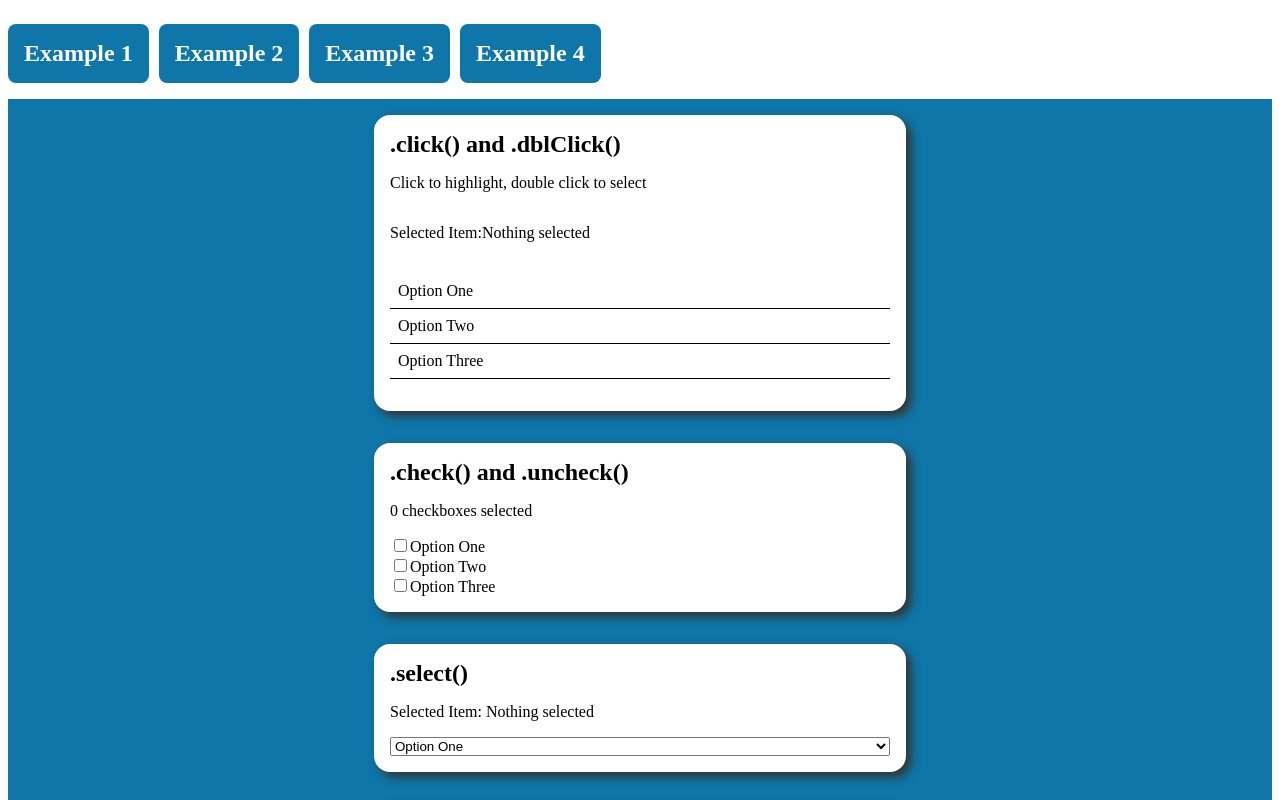
Test case: Basic page interactions › check and uncheck › displays the correct count for the number of selected checkboxes
The image size is (1280, 800).
Check the checkbox labelled "Option One". click: (401, 546)
box: [394,539,407,552]
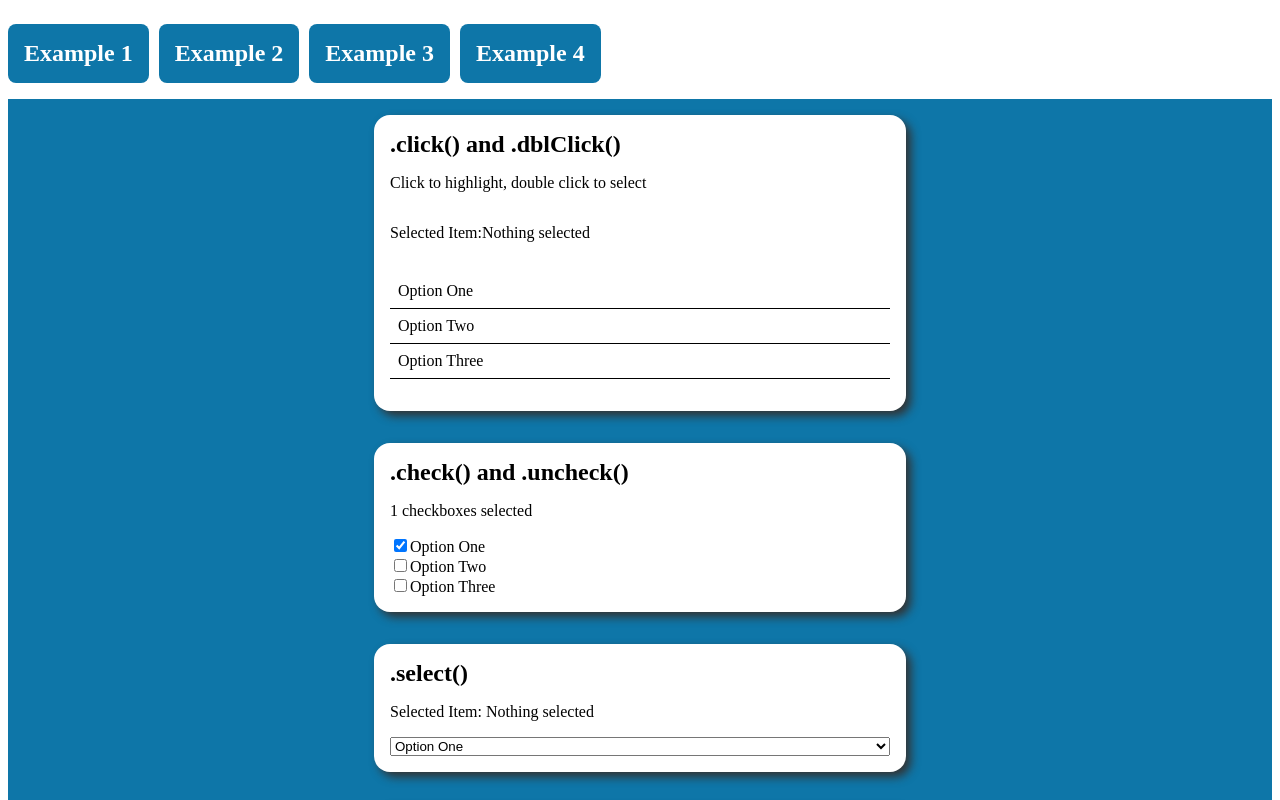
Expected: the text with test id "box-2-selected-count" reads "1", [390,502,398,519]
